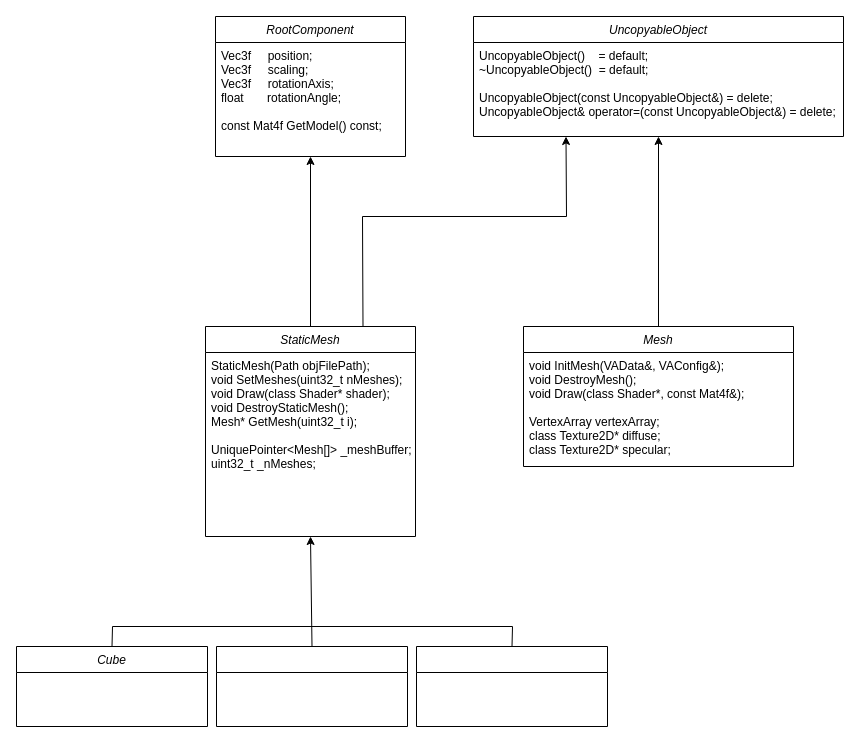
Some shapes in this 860 by 743 pixel diagram are drawn without their labels. The shapes that lost their labels are listed below. From the top down, each one's centre as x and y in pixels, then its label:
(312,686): Plane
(512,686): Cylinder
